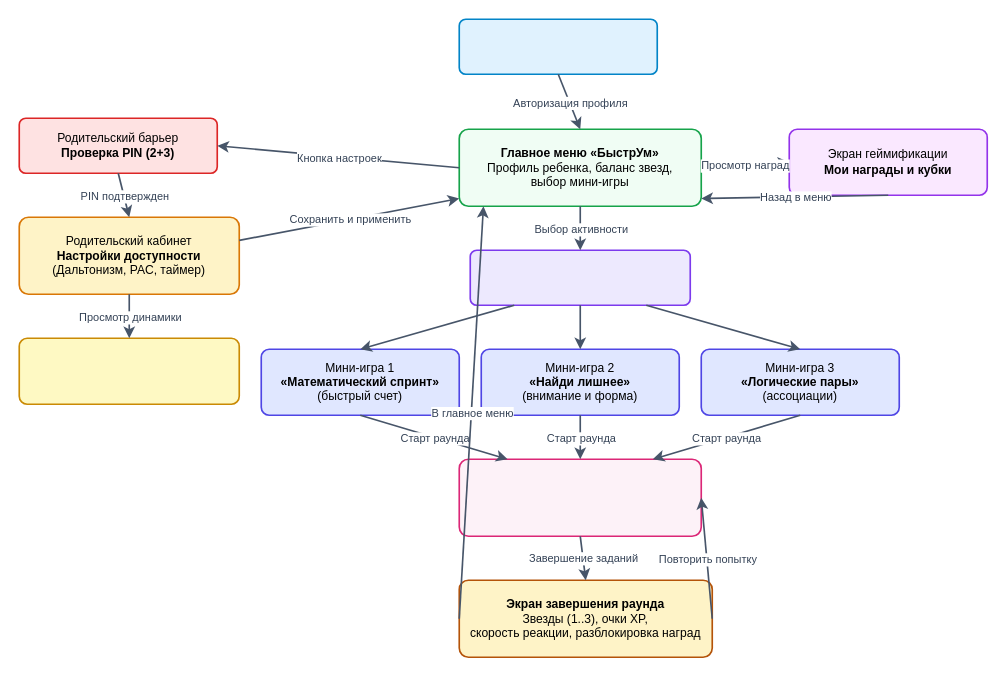
This 1008x678 diagram has some shape labels left out. Each missing label, with the box of its shape:
Выбор сложности Легкий / Средний / Сложный: (469, 249, 691, 306)
Запуск приложения Экран приветствия: (458, 18, 658, 75)
Игровой процесс раунда Интерактивные карточки, замер реакции в миллисекундах: (458, 458, 702, 537)
Модуль статистики Аналитика когнитивной динамики: (18, 337, 240, 405)
